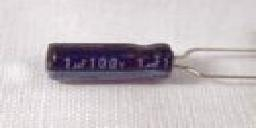Electrolytic-Capacitor: (41, 38, 256, 88)
